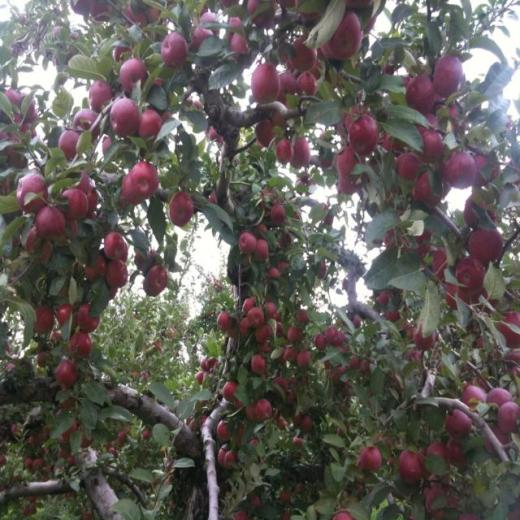Apple: (0, 0, 519, 519), (346, 105, 385, 162)
